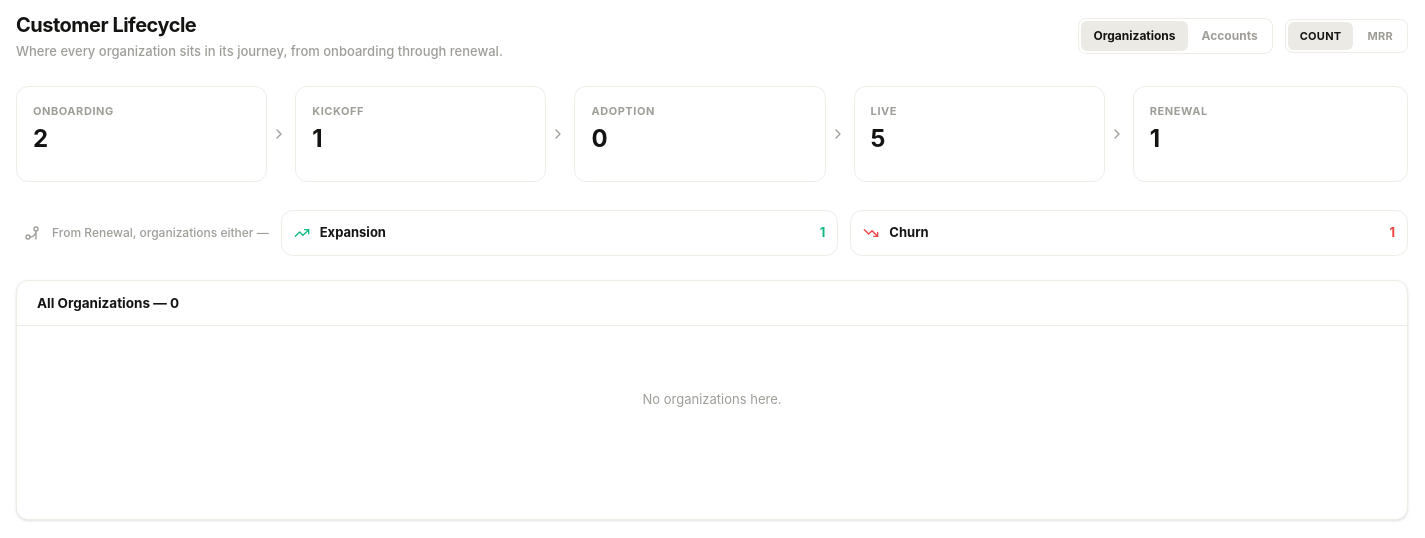
LifecyclePage › switching to Accounts shows real account stats and an account table with a Company column
The image size is (1425, 538).
Expected: the text "Onboarding" is shown, [33,102,114,119]
Click the button "accounts" at [1230, 36], box [1190,21,1270,51]
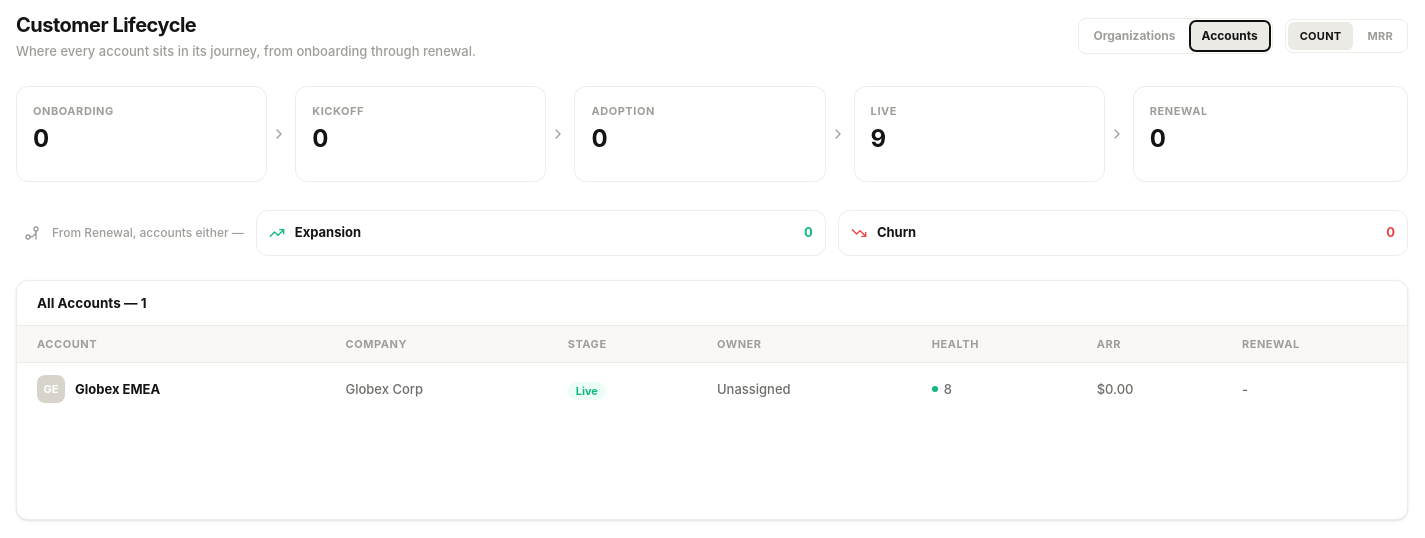
Expected: the text "9" is shown, [871,127,886,151]
Expected: the text "Globex EMEA" is shown, [75,380,160,399]
Expected: the column heading "Company" is shown, [326,326,548,363]
